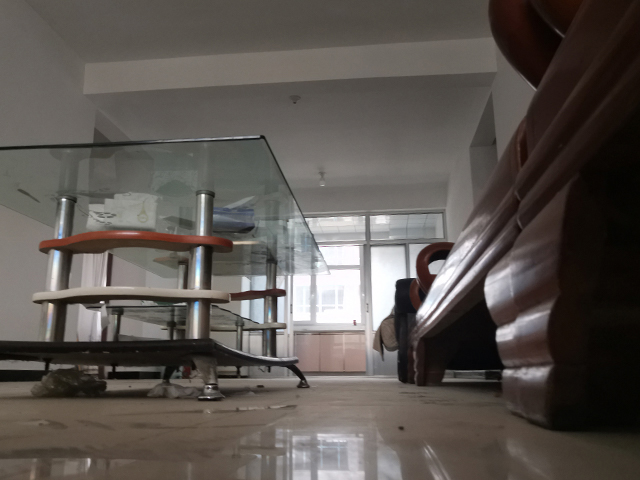stool: (394, 1, 640, 433)
table: (1, 131, 331, 403)
